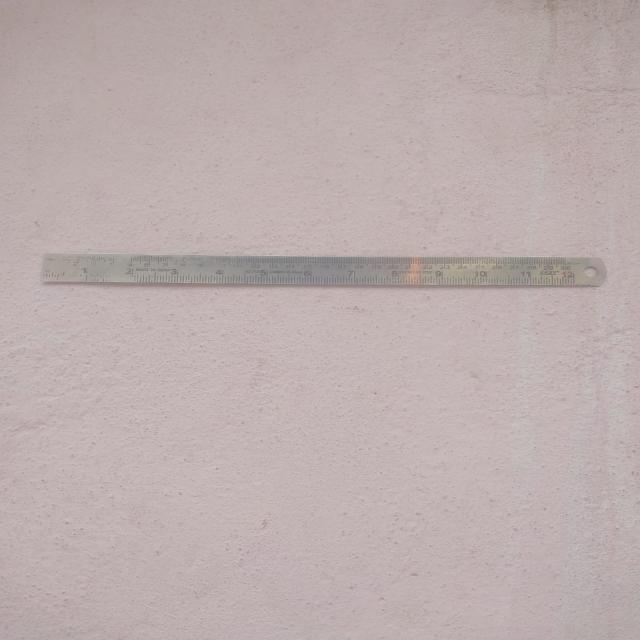scale: (42, 254, 609, 285)
